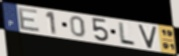0: (69, 16, 88, 39)
1: (45, 11, 58, 36)
5: (91, 17, 111, 43)
E: (18, 7, 42, 33)
L: (117, 22, 137, 47)
V: (137, 24, 158, 50)
